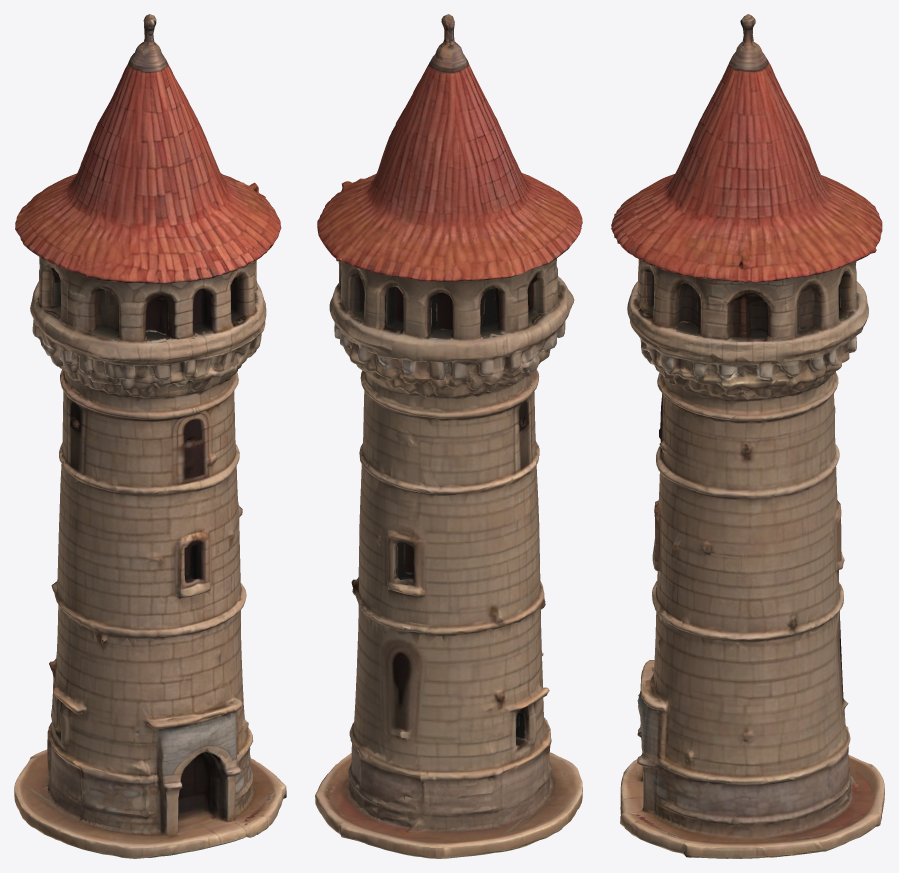
The model's file is tower__stone-watchtower.glb.
3 views of the same model, side by side, from view 1: azimuth 30°, elevation 25°; view 2: azimuth 150°, elevation 25°; view 3: azimuth 270°, elevation 25° (orthographic).
Bounding box in the file's own units: 0.6108 × 1.99 × 0.6224.
Materials: 1 (1 with a texture image).
